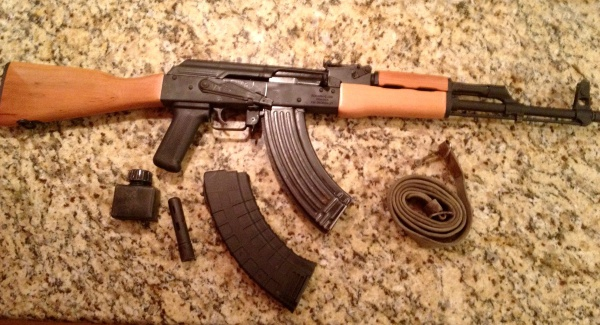ak47: (4, 60, 600, 226)
